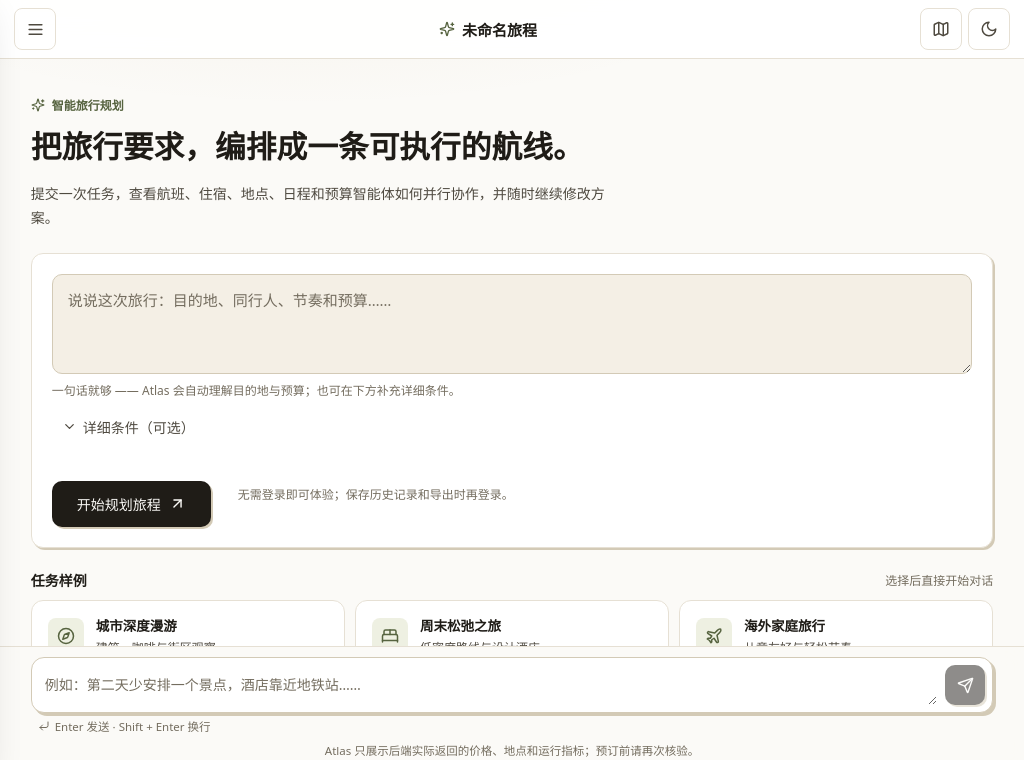
Test: Atlas page integration › opens login and keeps the current draft when an SSE token expires
Click the button "开始规划旅程". click: (131, 504)
box: [52,480,211,526]
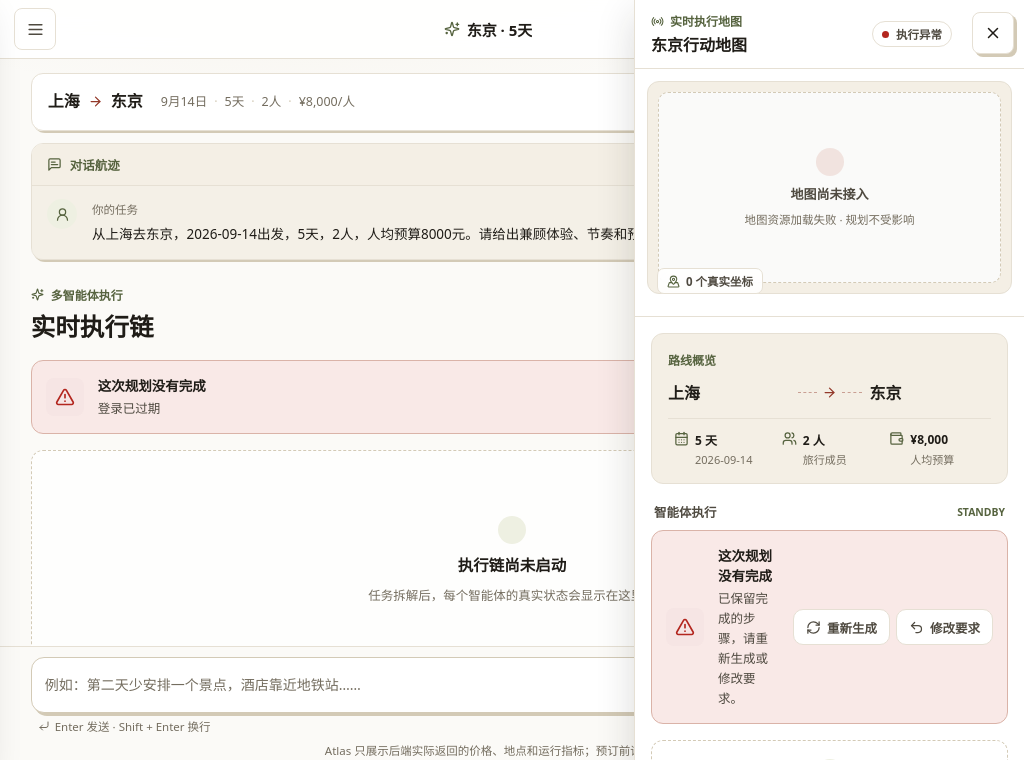
Expected: the text "从上海去东京，2026-09-14出发，5天，2人，人均预算8000元。请给出兼顾体验、节奏和预算的完整方案。" is shown, [92,225,735,243]
